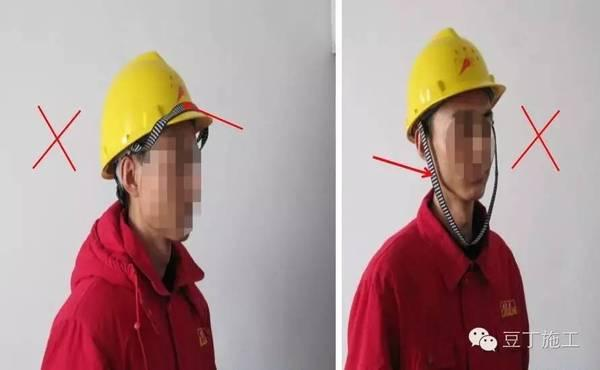helmet: (99, 49, 213, 180), (404, 27, 507, 148)
